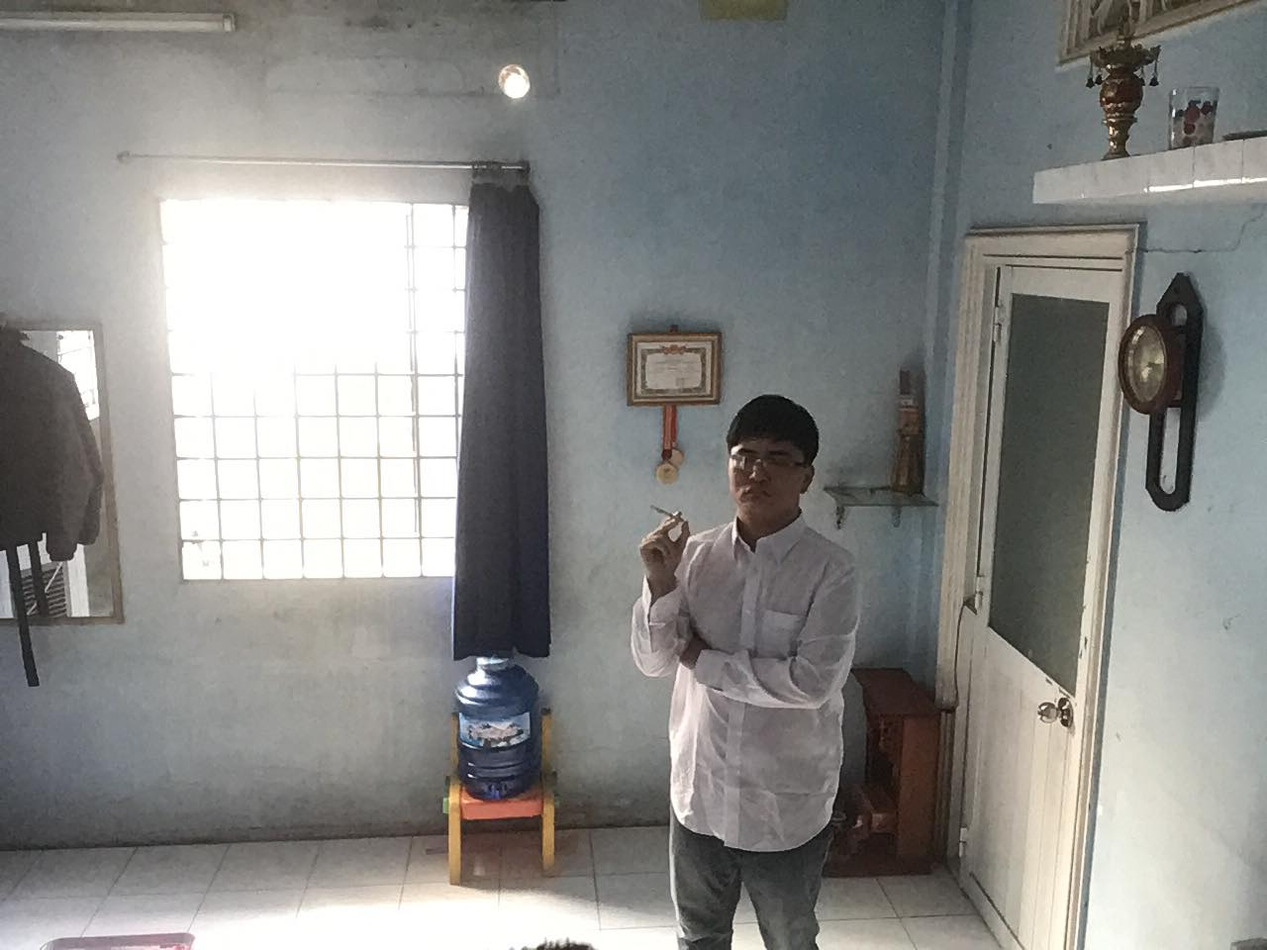cigarette: (651, 497, 688, 527)
person: (615, 380, 883, 950)
